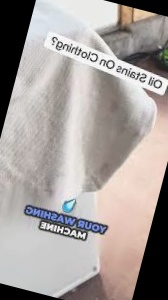oil: (100, 95, 131, 126), (92, 158, 113, 178)
